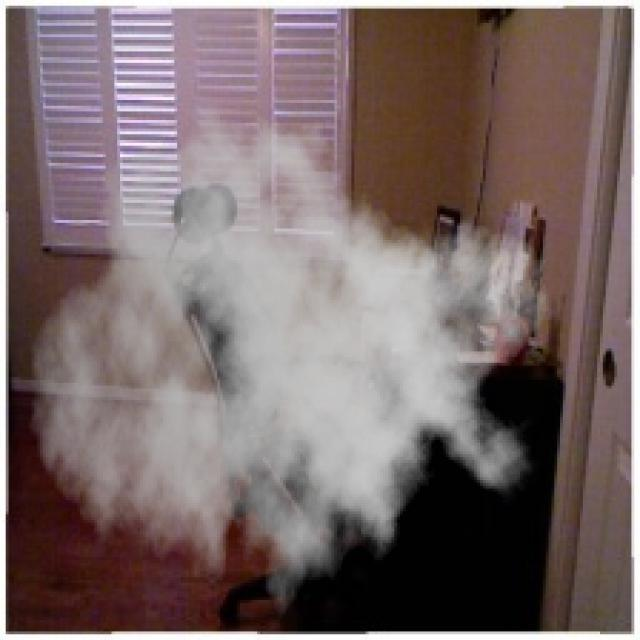Smoke: (28, 88, 554, 638)
